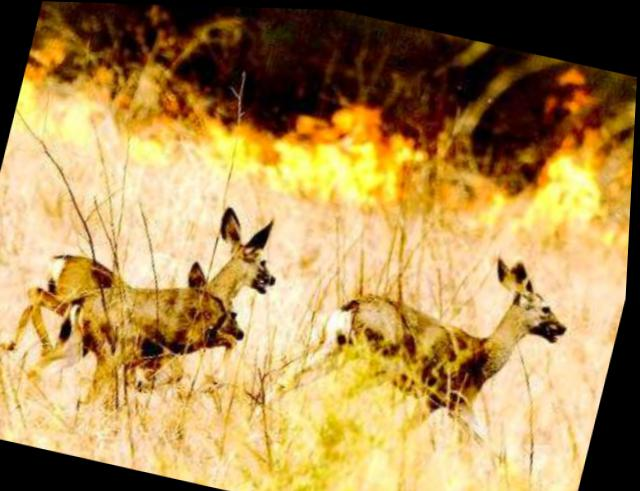fire: (9, 29, 636, 262)
